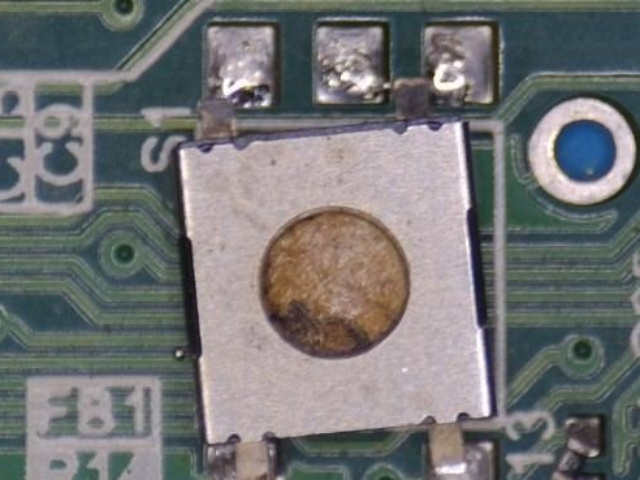pcb_defect: (173, 22, 498, 480), (311, 21, 498, 119), (548, 416, 606, 480)
